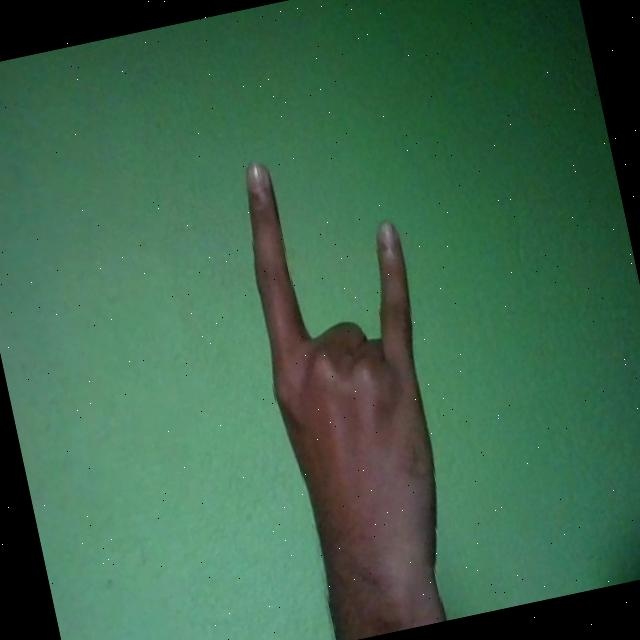open Plam: (225, 134, 478, 638)
